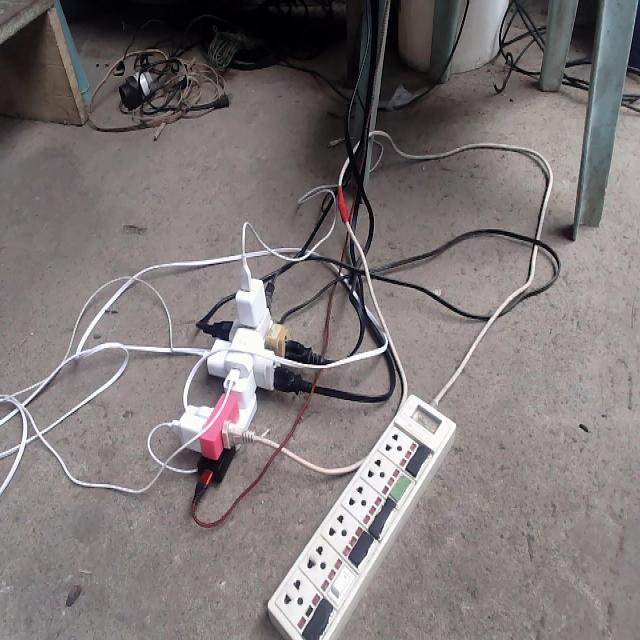-: (168, 273, 290, 479)
